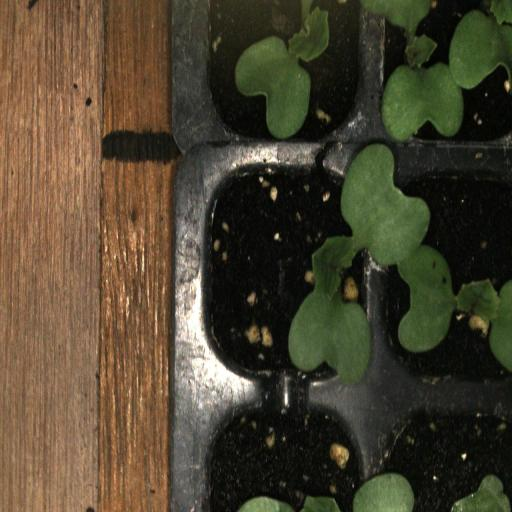Folha: (353, 472, 415, 512)
Germinacao: (198, 164, 373, 399), (374, 158, 512, 396), (192, 0, 371, 162), (374, 0, 512, 157)
